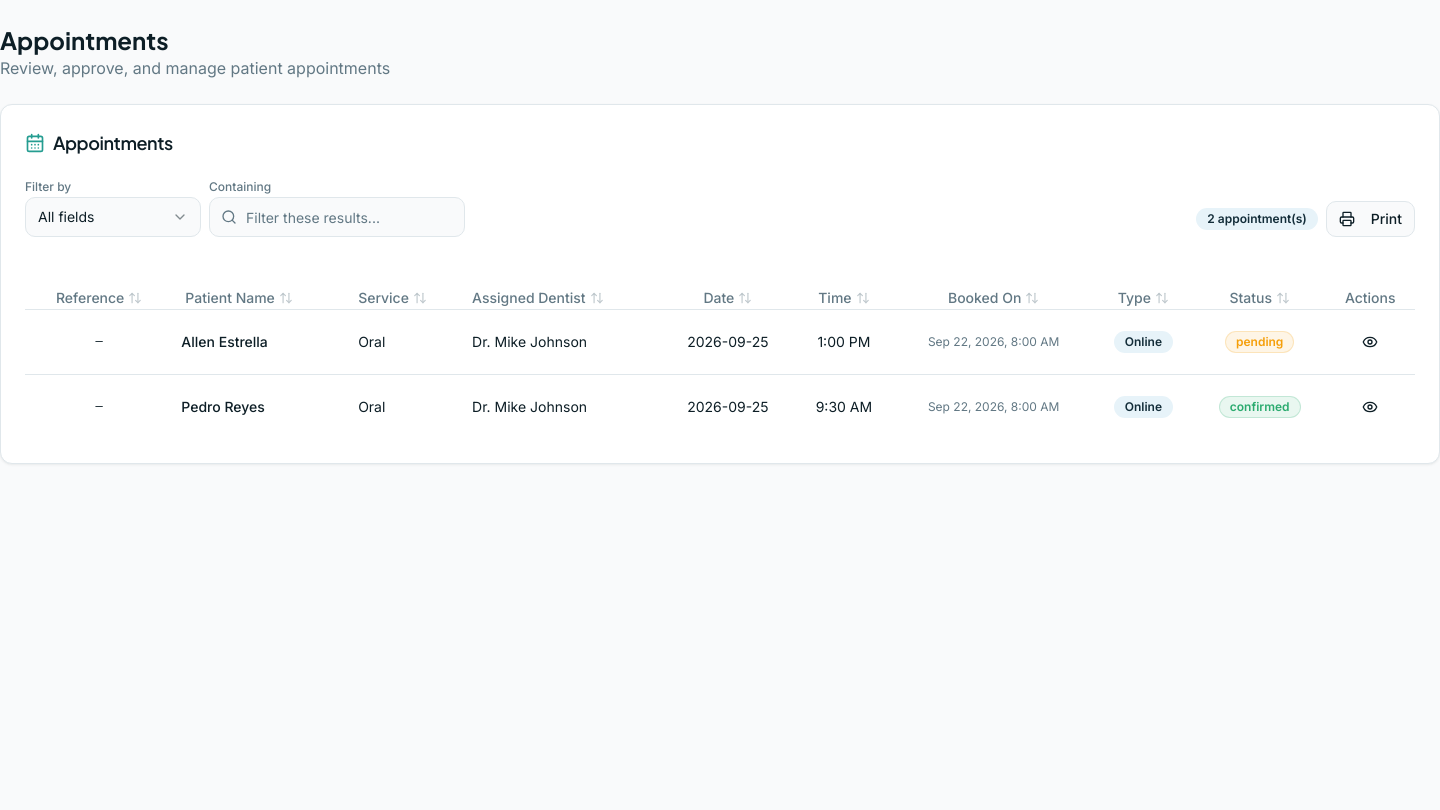
Test: admin approve / reject › approving confirms it, reports the email as sent, and drops the dialog's actions
Expected: the text "Allen Estrella" is shown, [173,309,350,374]
Click the button named "View" in the row of "Allen Estrella": (1370, 342) [1354,326,1386,358]
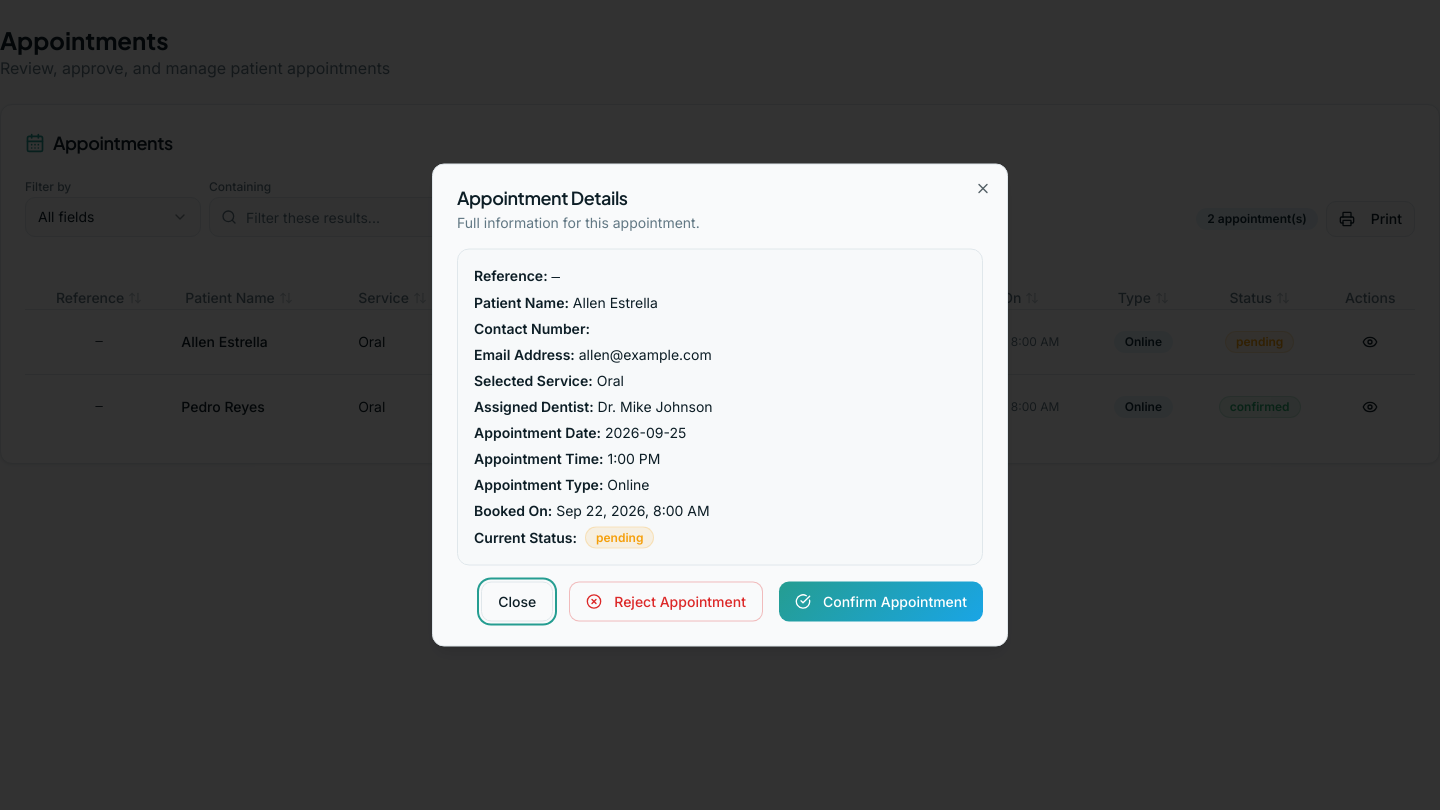
Click the button "Confirm Appointment": (881, 602) [779,582,983,622]
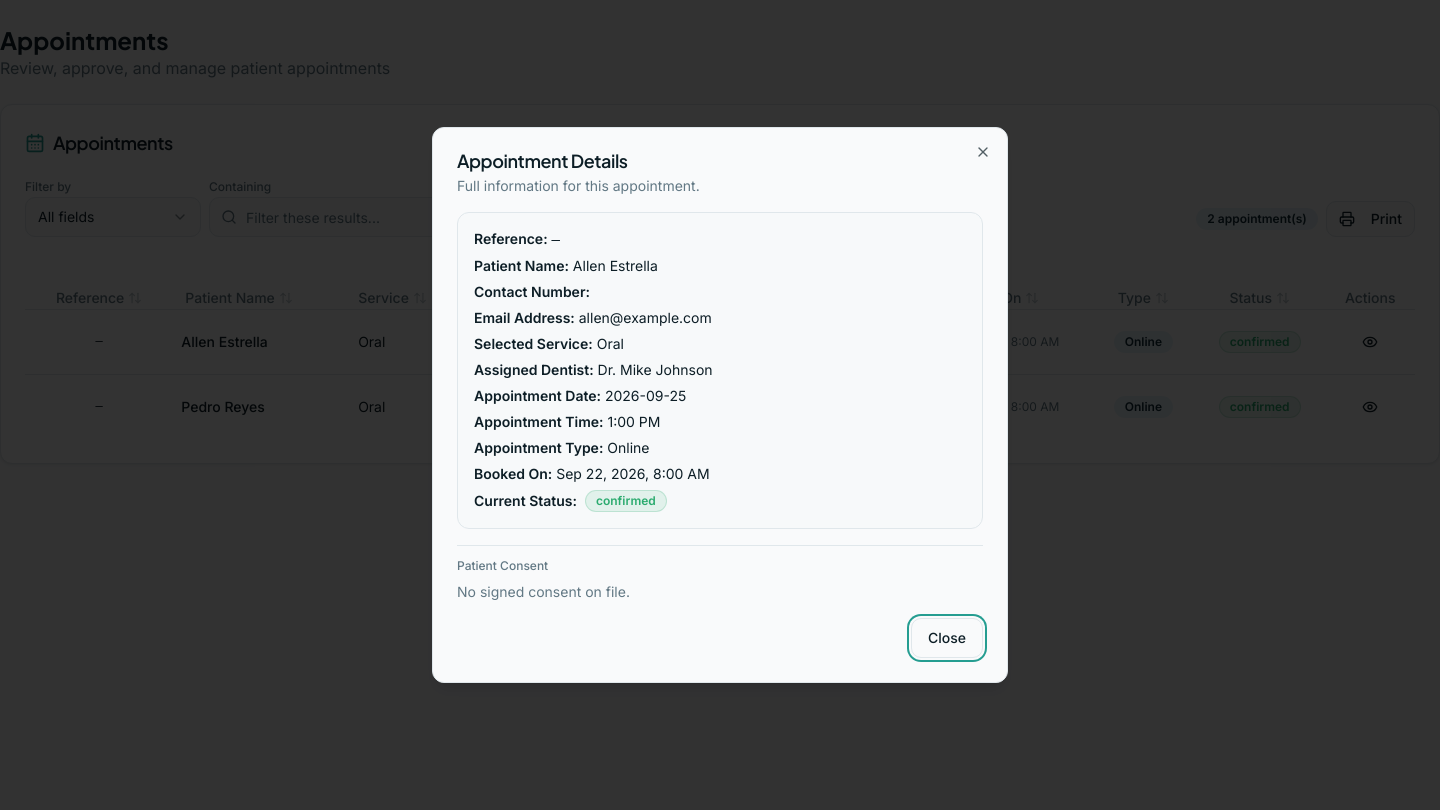
Expected: the text "confirmed" below "Actions" is shown, [1230,334,1290,348]
Expected: the button "Confirm Appointment" is gone
